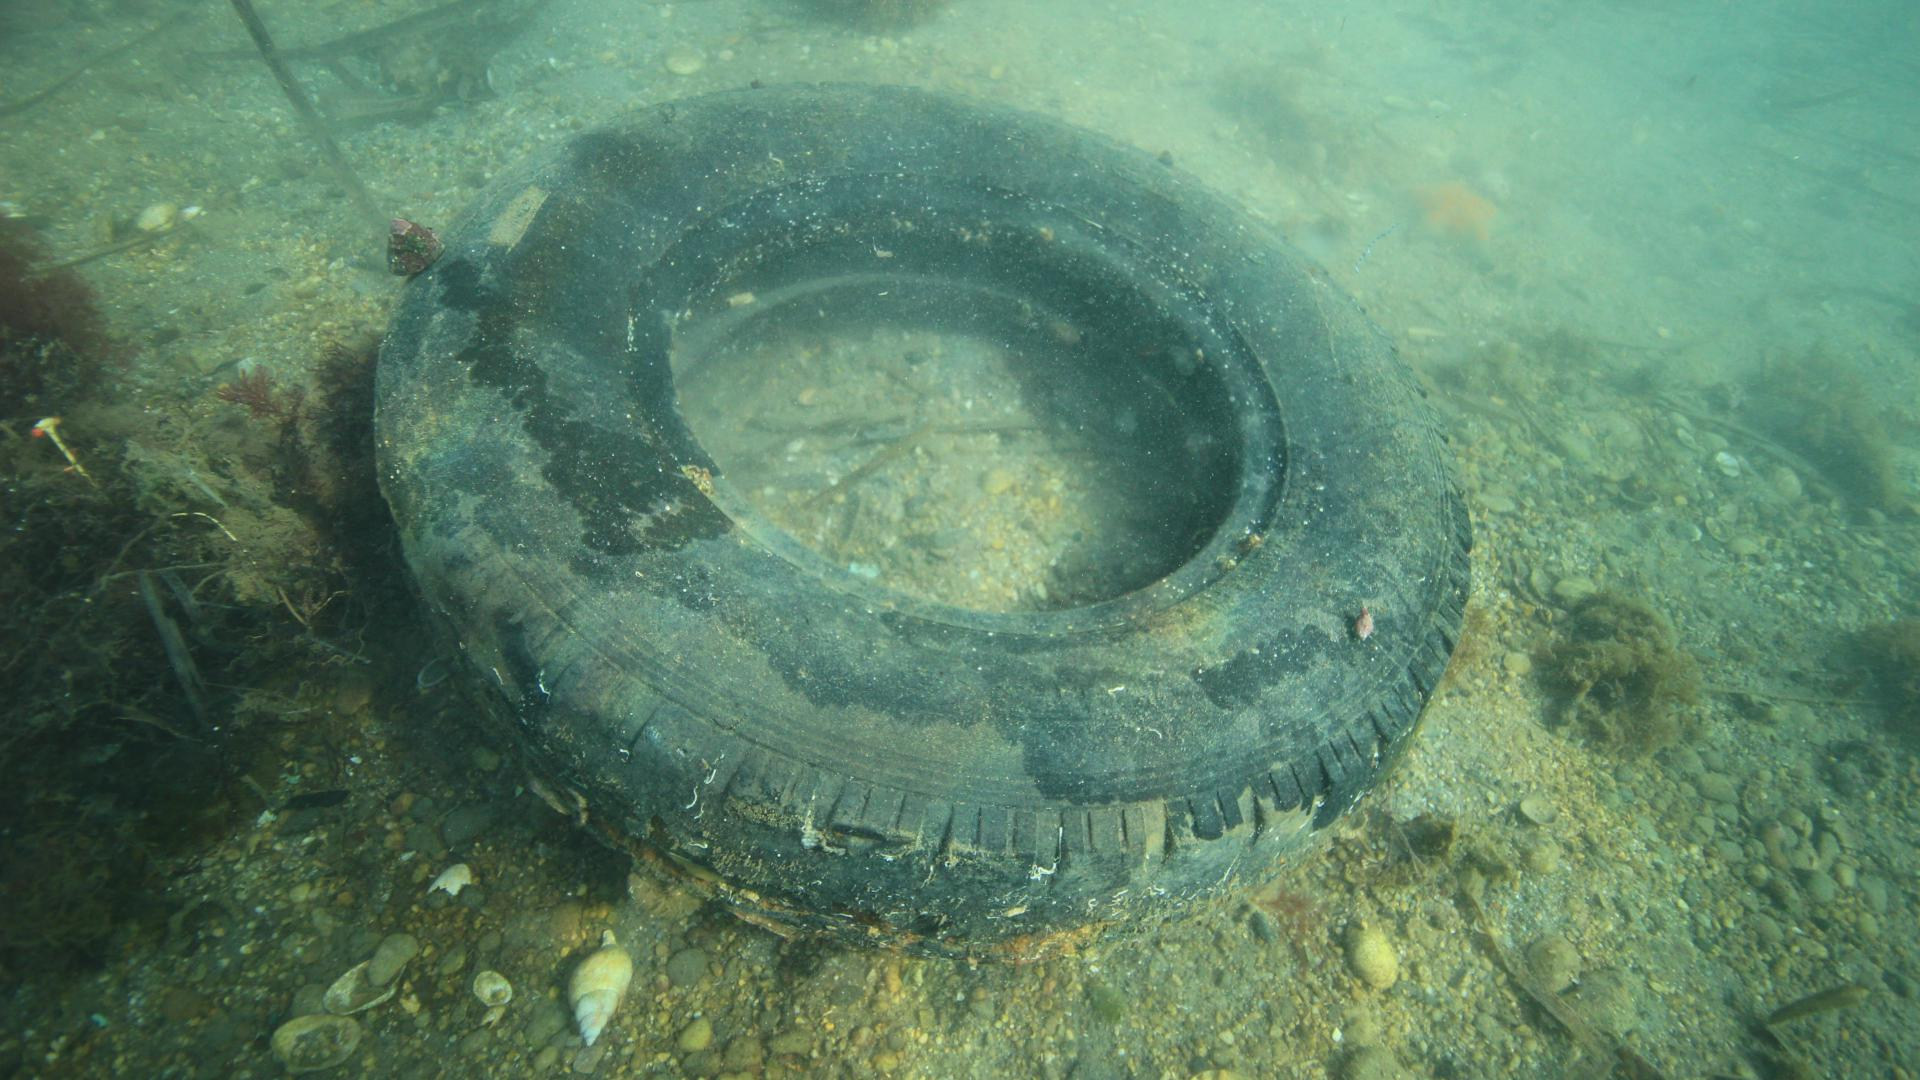tire: (363, 73, 1462, 955)
